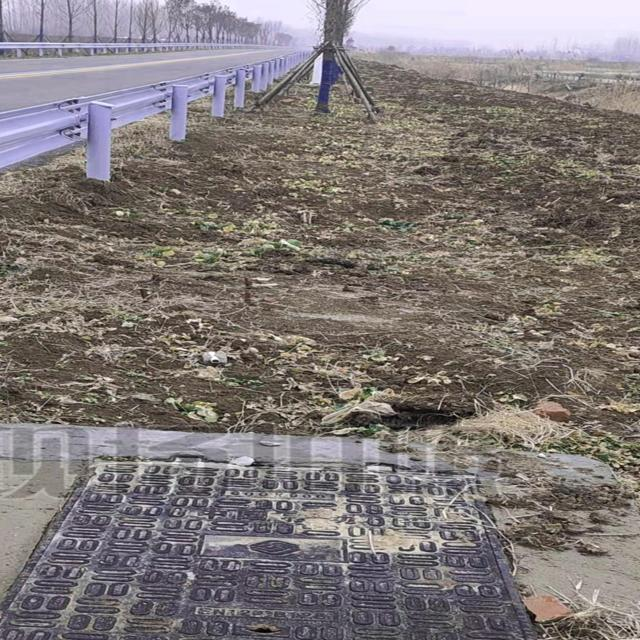good: (0, 450, 570, 640)
